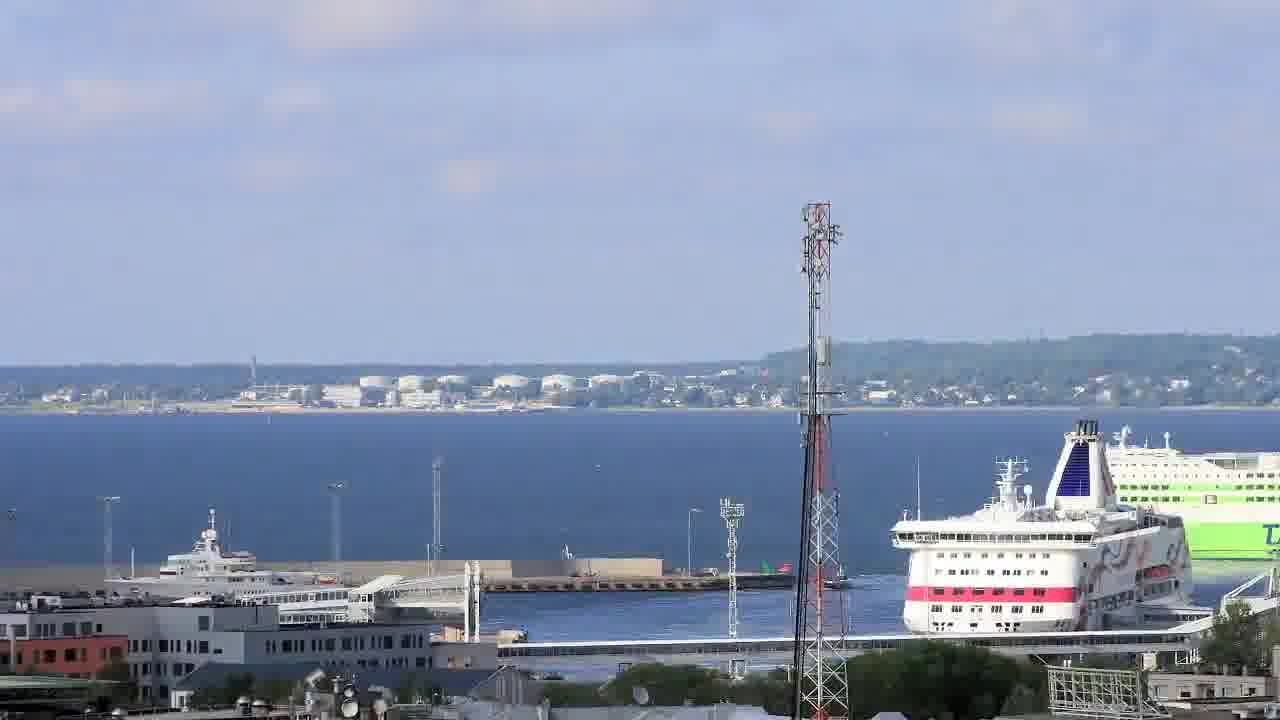type-0: (817, 563, 862, 600)
type-3: (868, 415, 1225, 638), (1050, 427, 1279, 574), (84, 511, 353, 609)
